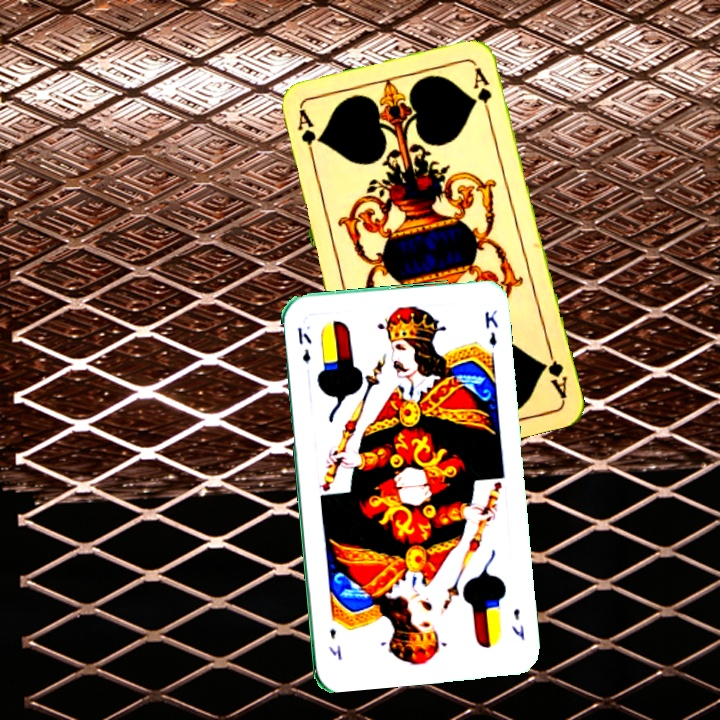EK: (293, 324, 314, 367), (508, 604, 527, 642)
GA: (538, 343, 570, 401), (293, 105, 318, 165)
